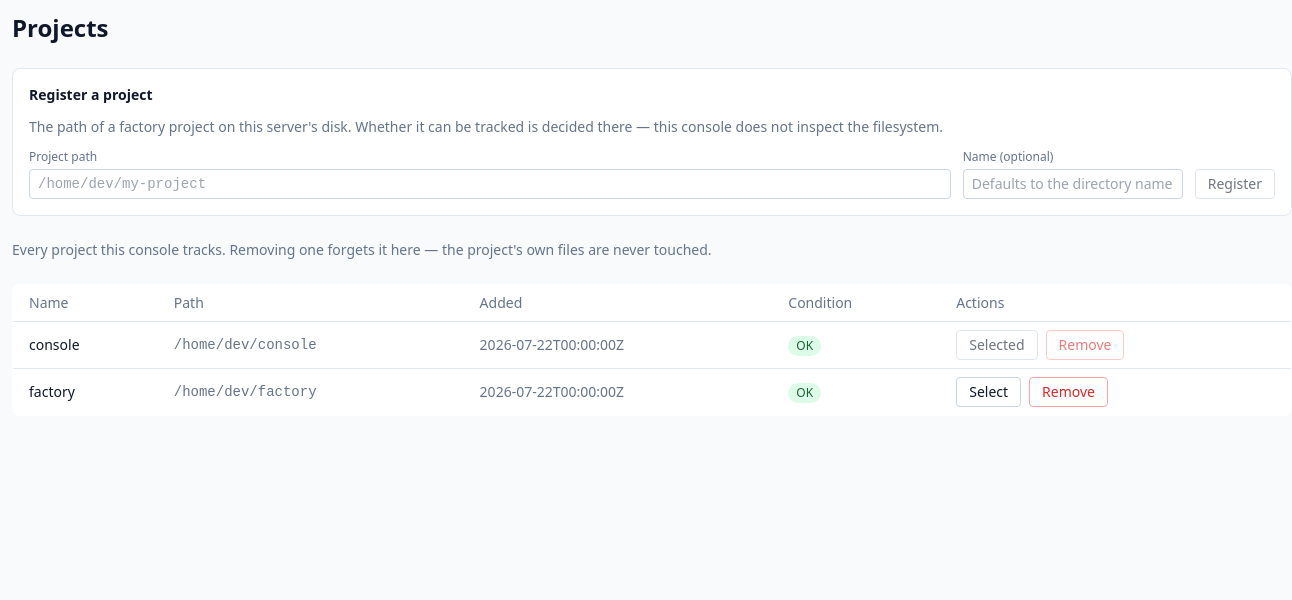
Test case: projects page › reports any other failure inline without touching the list
What coordinates should you click on to do the following:
click the button "Select"
I would click on:
 (989, 392)
Its box is [956,377,1021,407].
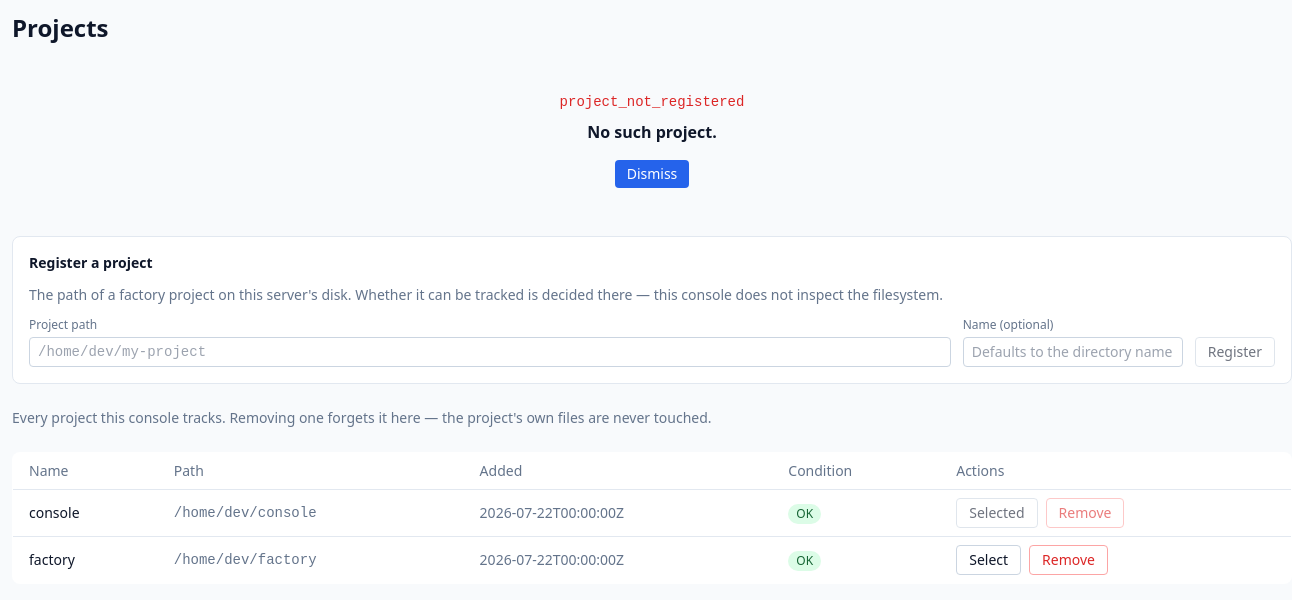
Check: the row with test id "project-row-p2" is shown, box [12,536,1291,584]
Check: the heading "No such project." is shown, box [587,121,717,143]
What coordinates should you click on to do the following:
click the button "Dismiss"
I would click on:
 (652, 174)
Its box is [615,160,689,188].
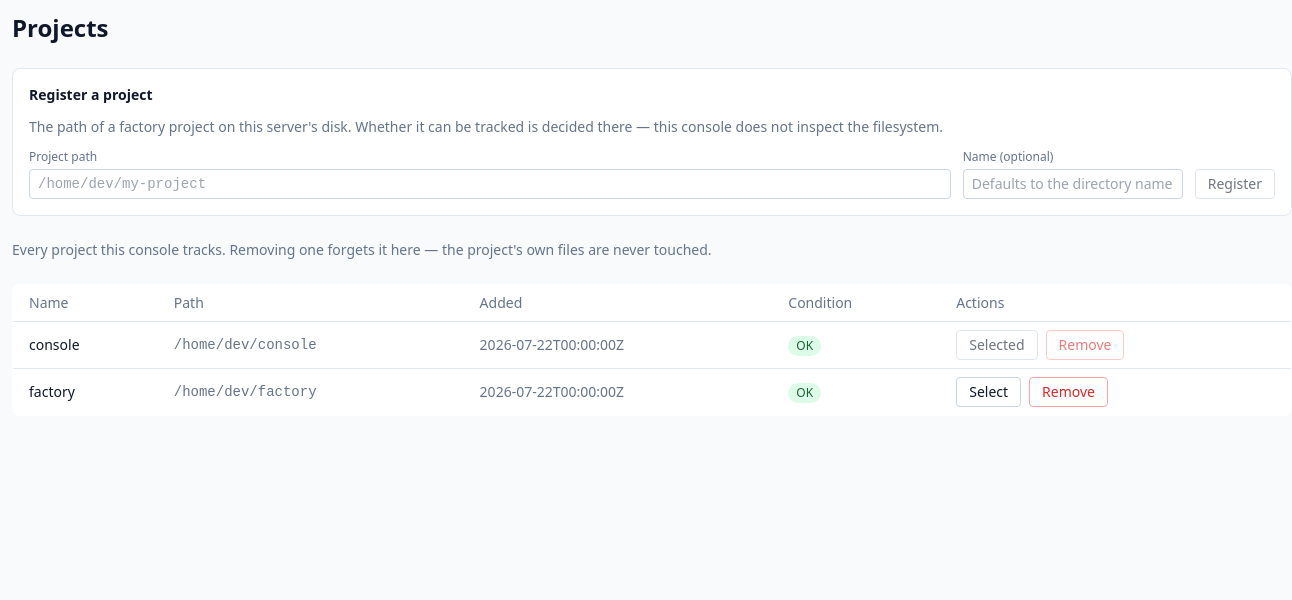
Check: the heading "No such project." is gone
